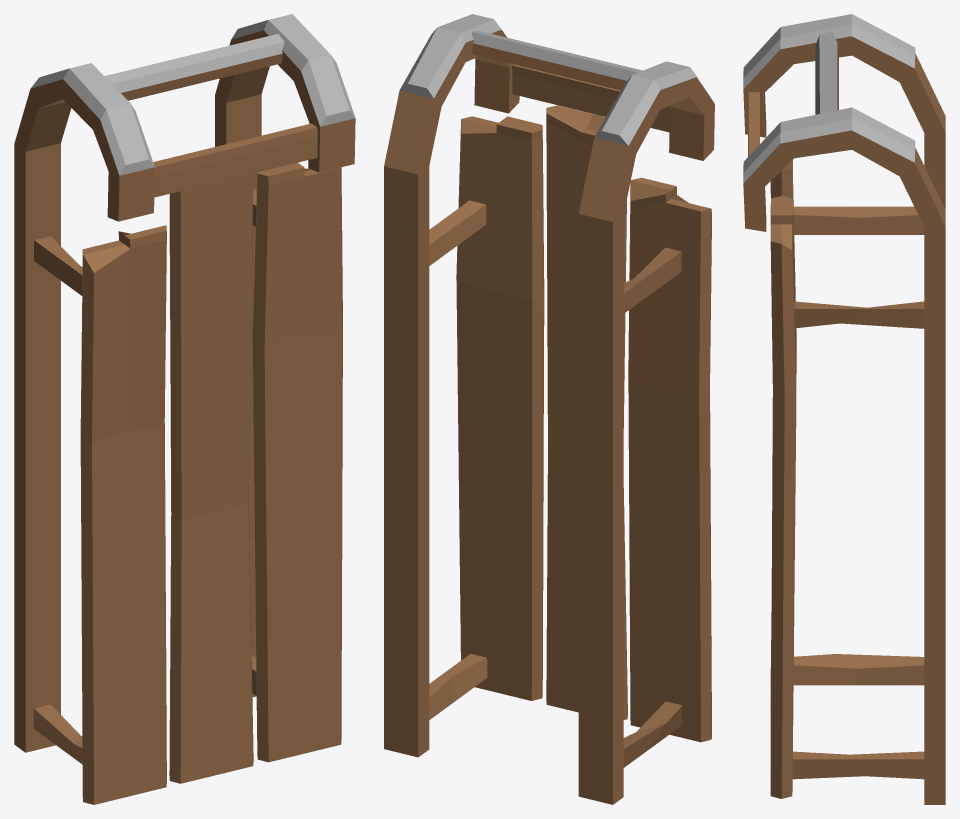
File: Sled_1 winter.fbx
3 views of the same model, side by side, from view 1: azimuth 30°, elevation 25°; view 2: azimuth 150°, elevation 25°; view 3: azimuth 270°, elevation 25° (orthographic). The views are drawn at different scales.
Parts seen in each view (by area): view 1: SledWinter_1; view 2: SledWinter_1; view 3: SledWinter_1.
Boxes of the visible parts, box(x1,y1,x2,y2) form: SledWinter_1: box(14, 14, 355, 804); SledWinter_1: box(384, 14, 714, 804); SledWinter_1: box(743, 14, 945, 804).
Size of the model in its own units: 42.14 by 109 by 29.34.
